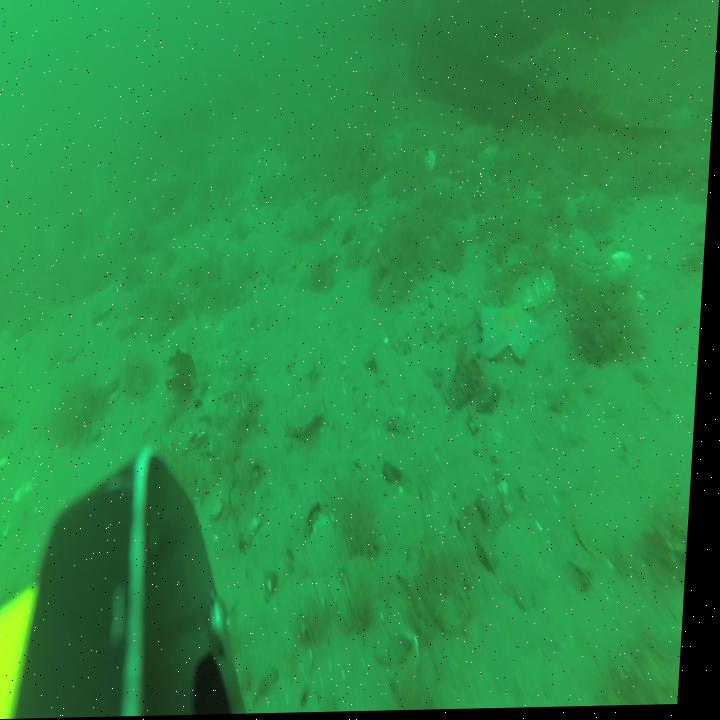scallop: (514, 266, 561, 318), (568, 225, 616, 273), (289, 392, 330, 434), (478, 144, 500, 162), (427, 151, 439, 175)
starfish: (479, 296, 556, 362), (293, 255, 323, 294)
